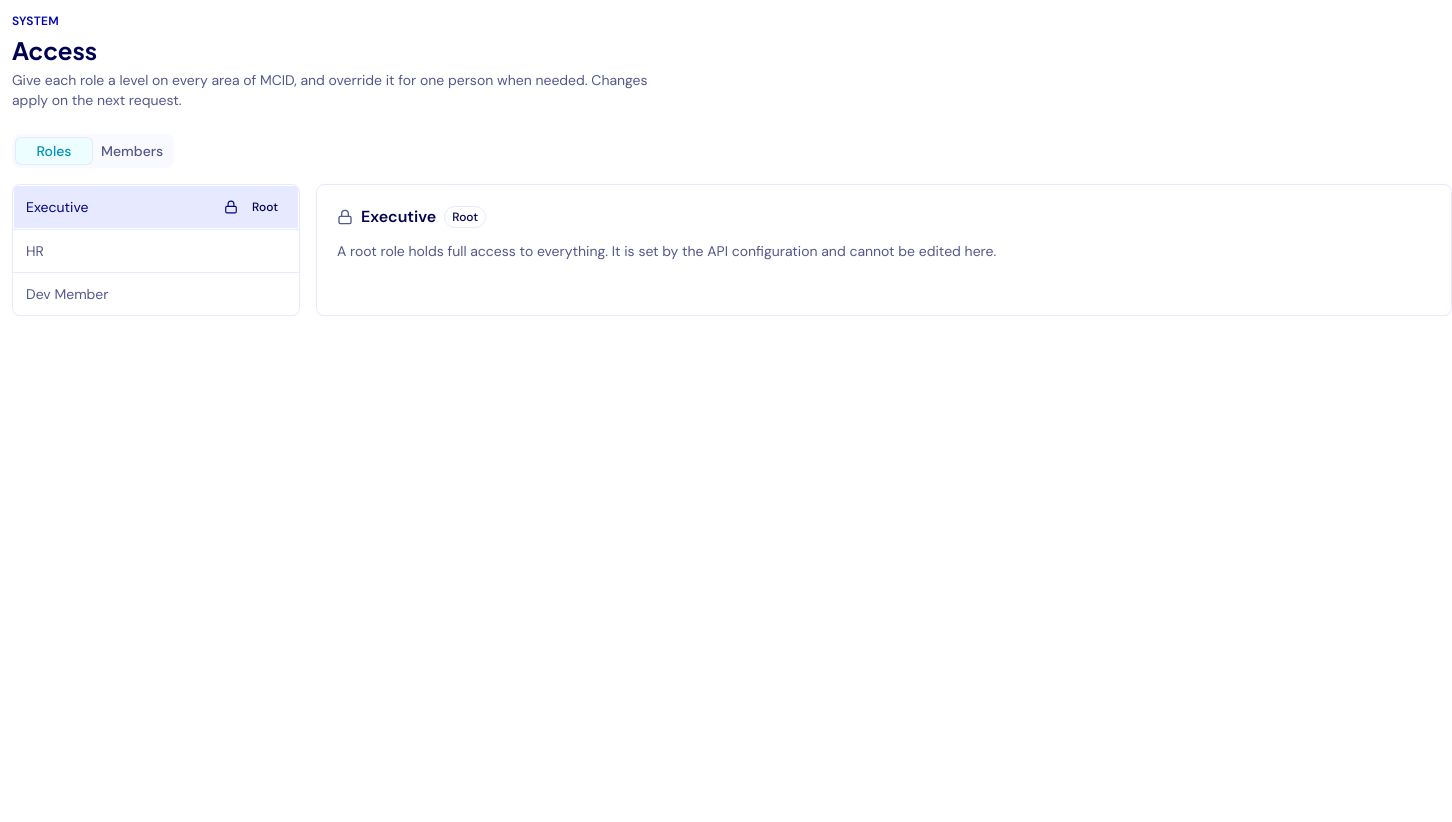
Test: AccessView › lists the roles, marks the root ones, and edits the selected one
Expected: the text "Executive" is shown, top-left (26, 197), bottom-right (88, 217)
Expected: the 1st text "Root" is shown, top-left (244, 196), bottom-right (286, 218)
Step 1. Click the button "HR" → (35,251), box top-left (13, 230), bottom-right (299, 272)
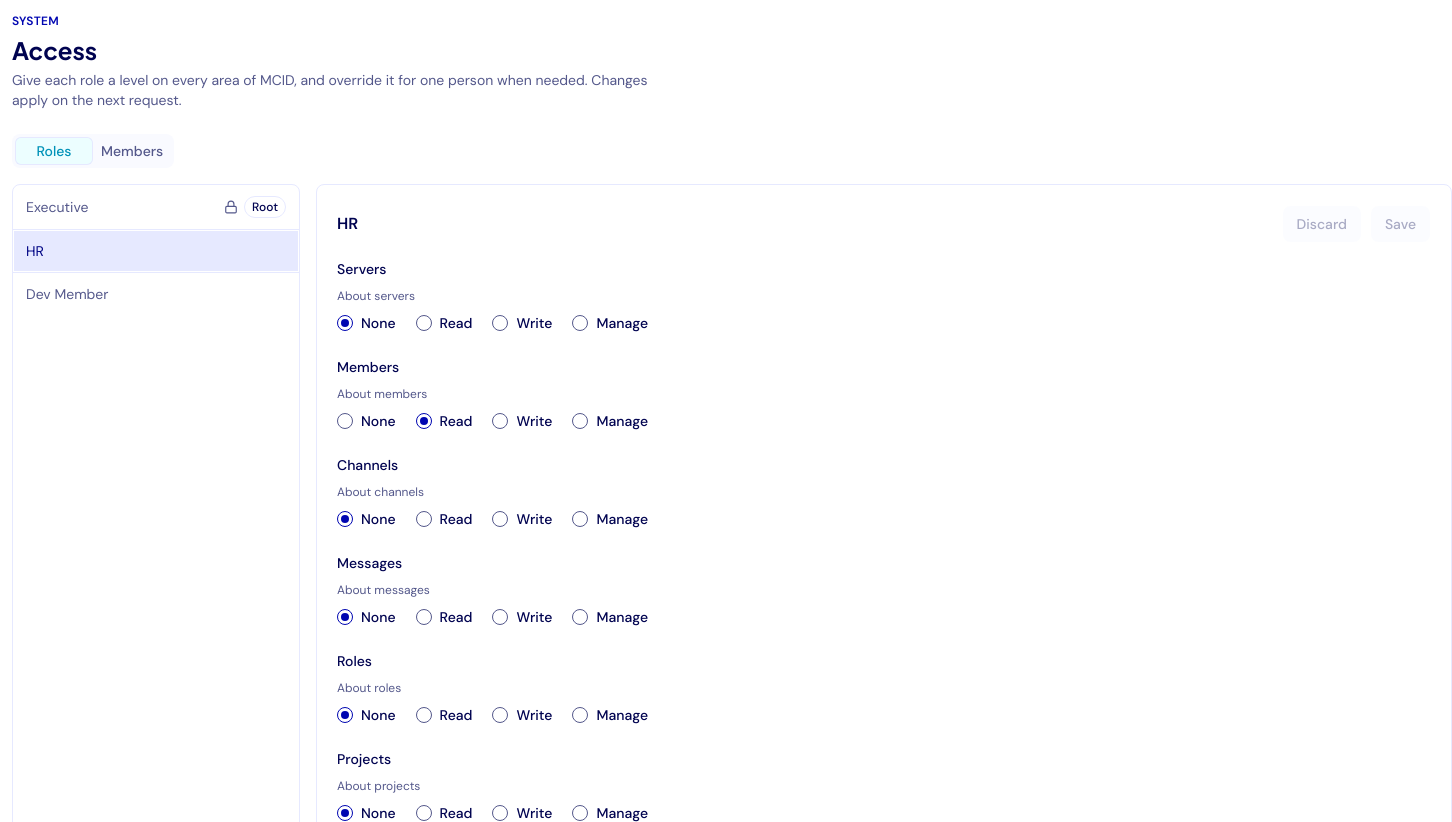
Expected: the 6th radio button named "Read" is checked, top-left (416, 413), bottom-right (432, 429)
Step 2. Click the button "Executive Root" → (57,207), box top-left (13, 185), bottom-right (299, 229)
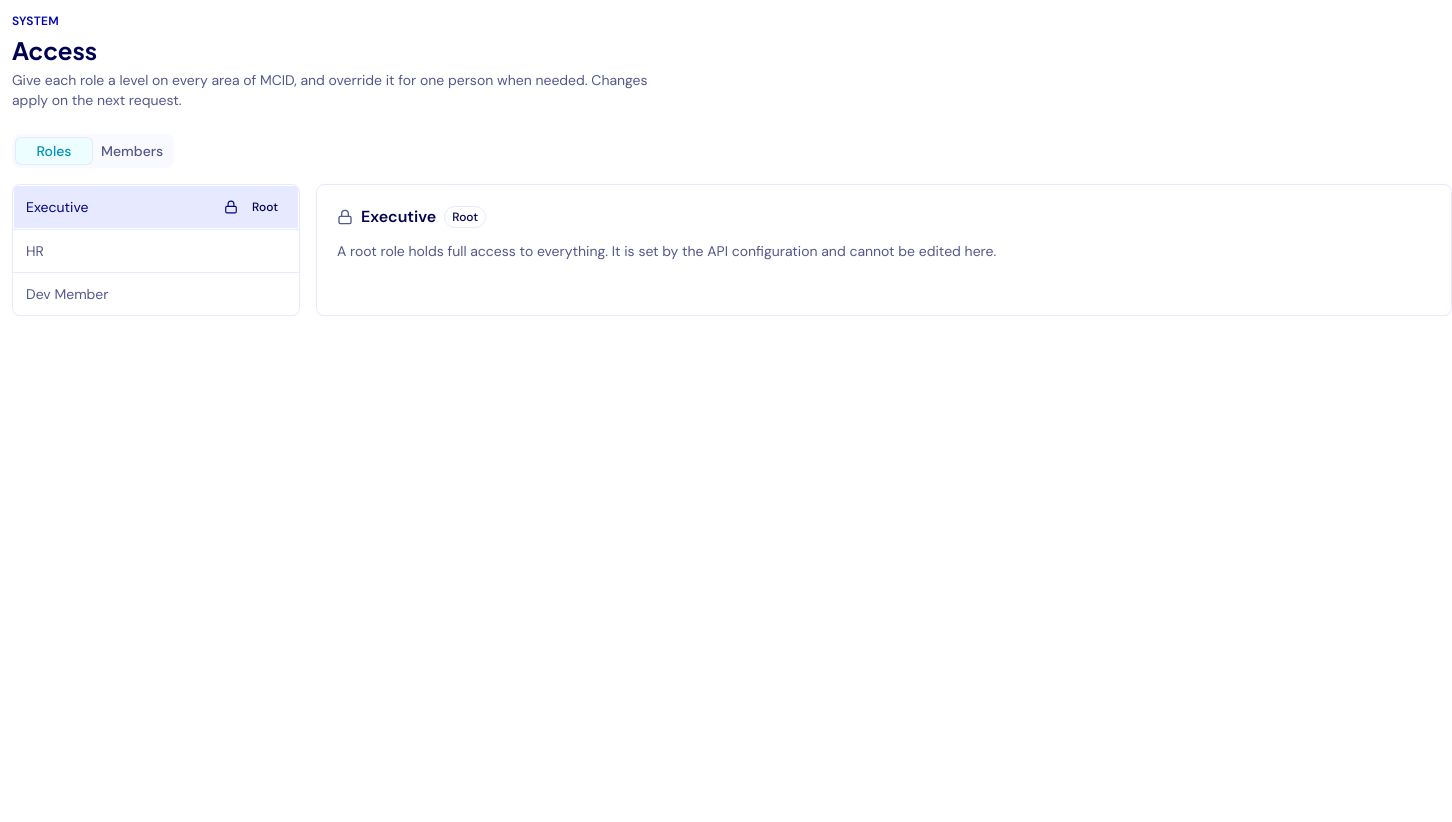
Expected: the text "cannot be edited here" is shown, top-left (337, 242), bottom-right (996, 260)
